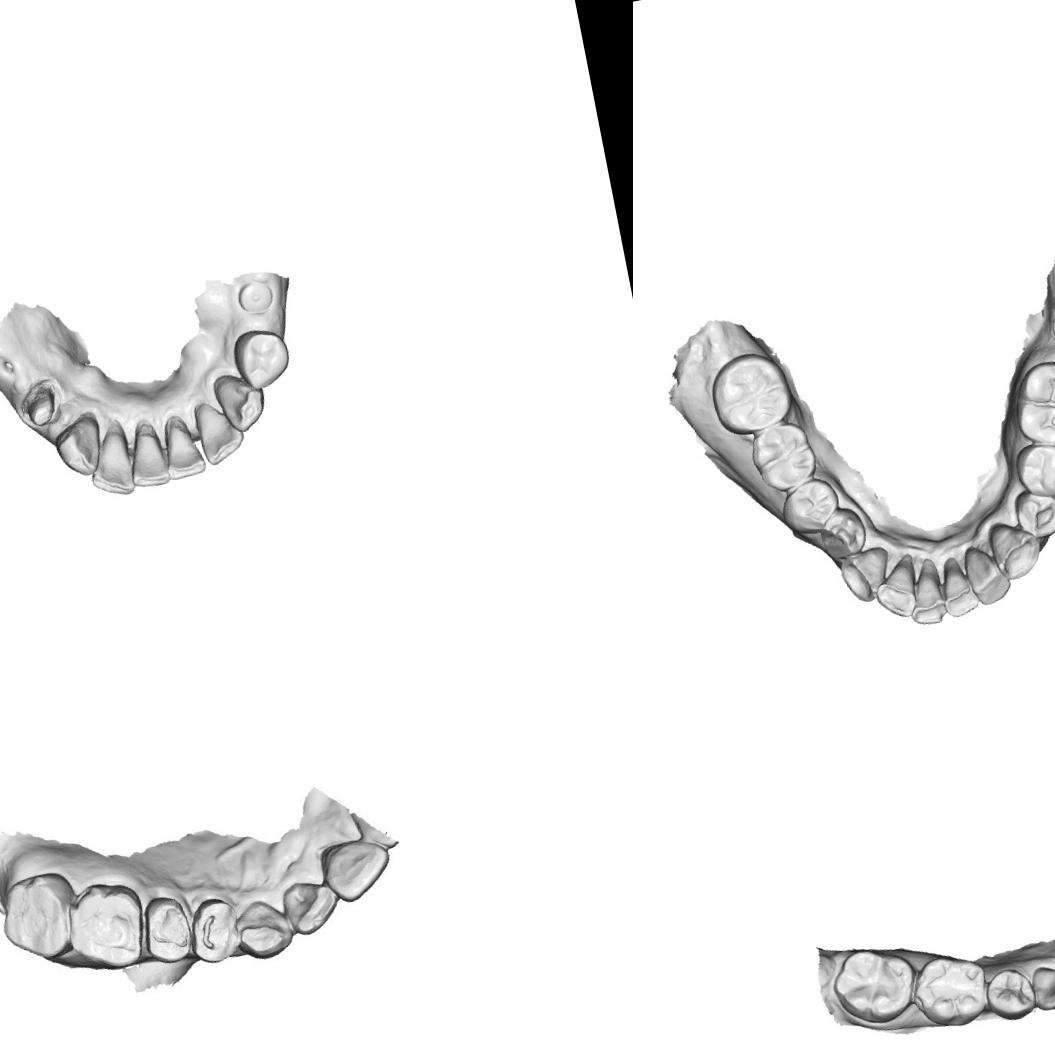canine: (210, 366, 271, 436), (50, 412, 108, 482), (231, 898, 294, 962), (834, 545, 900, 606), (986, 516, 1044, 583), (1026, 956, 1055, 1014)
crown: (14, 374, 66, 430)
implant: (232, 274, 276, 316)
incisor: (316, 832, 391, 906), (79, 416, 139, 502), (190, 392, 250, 467), (282, 876, 344, 940), (120, 415, 172, 490), (156, 410, 208, 483), (959, 538, 1012, 607), (869, 558, 922, 620), (902, 562, 948, 630), (936, 556, 982, 620)
molar: (825, 938, 924, 1033), (703, 346, 797, 441), (905, 946, 993, 1035), (60, 881, 145, 972), (0, 868, 76, 958), (746, 417, 820, 495), (1006, 352, 1055, 454)
premolar: (228, 322, 296, 392), (775, 474, 846, 538), (136, 894, 196, 962), (980, 962, 1040, 1026), (185, 898, 241, 964), (814, 505, 868, 562), (1010, 437, 1055, 502), (1010, 485, 1055, 541)
